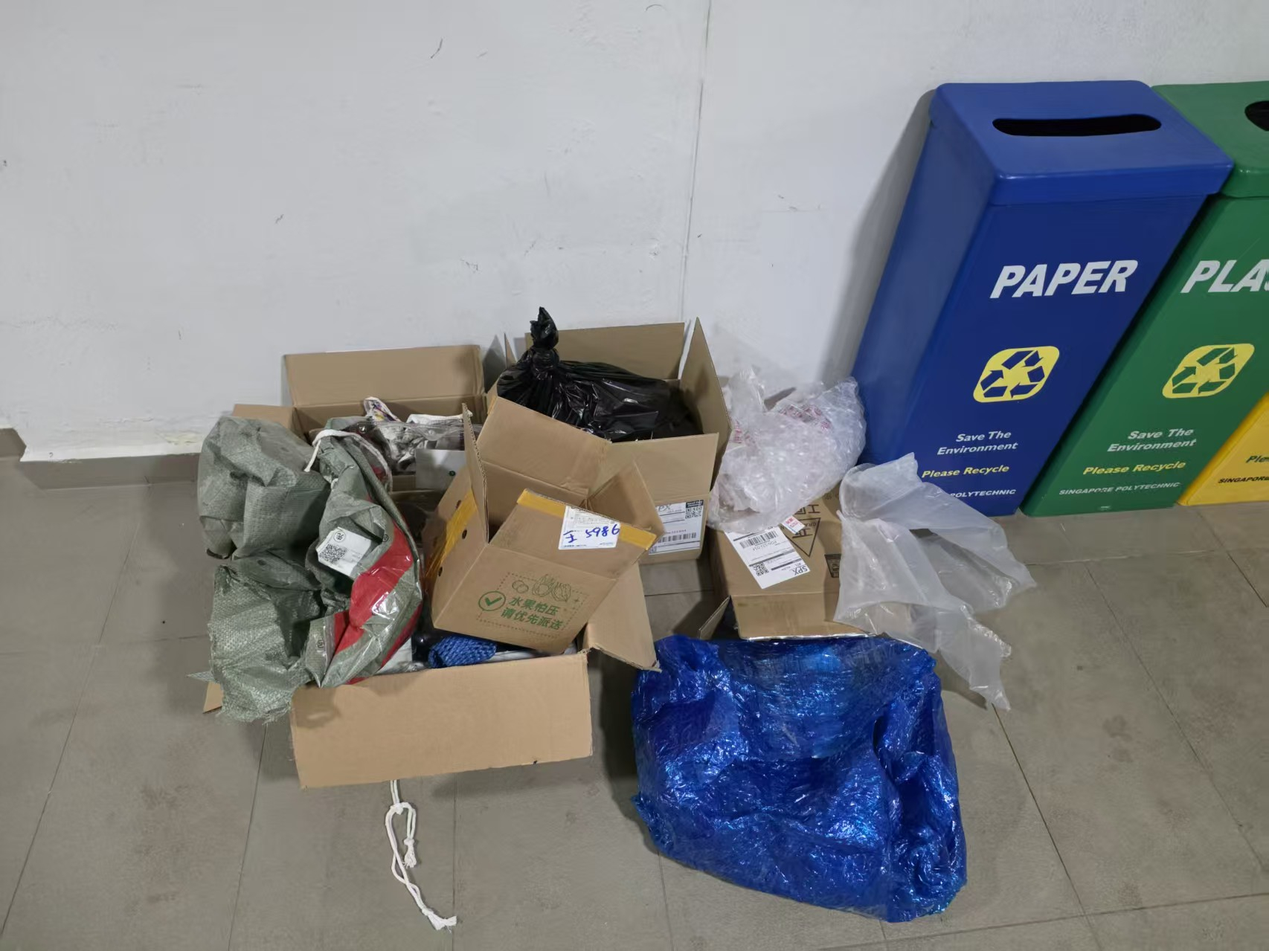bin_empty: (853, 81, 1232, 515), (1022, 81, 1268, 515)
bulk_waste: (199, 345, 661, 787), (496, 309, 730, 560), (710, 489, 858, 637)
normal_waste: (631, 635, 966, 921), (833, 454, 1033, 709), (707, 368, 865, 532)
